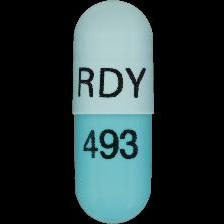43598-510: (0, 0, 224, 224)
